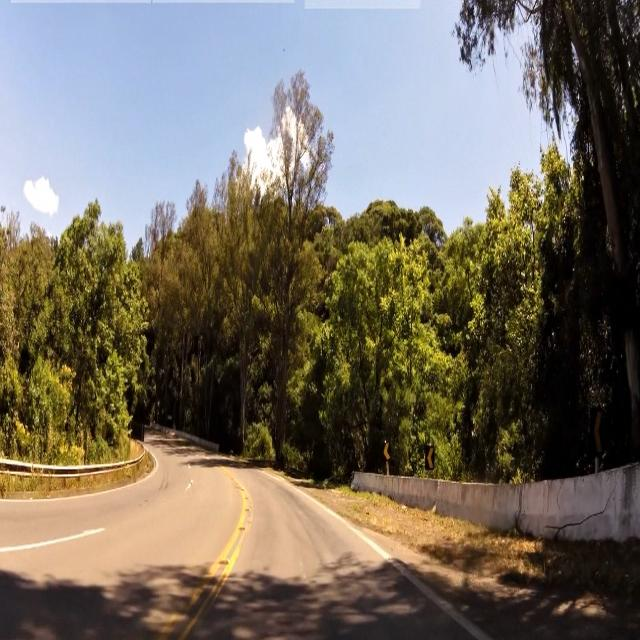Del: (426, 445, 435, 468), (384, 442, 390, 460)
